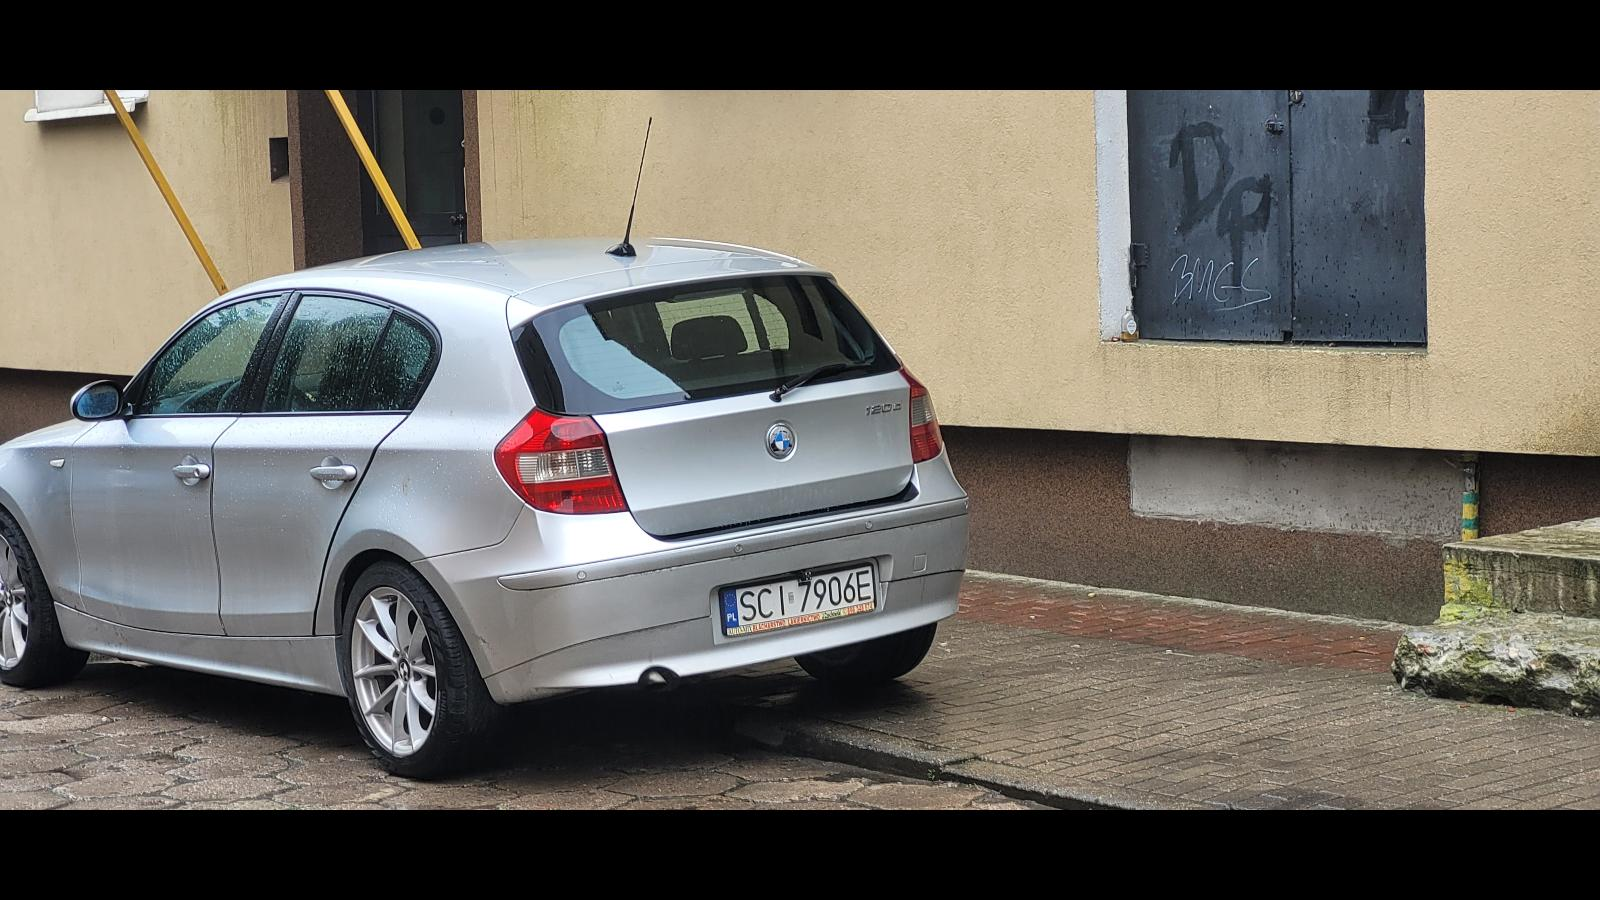plates: (719, 562, 877, 636)
